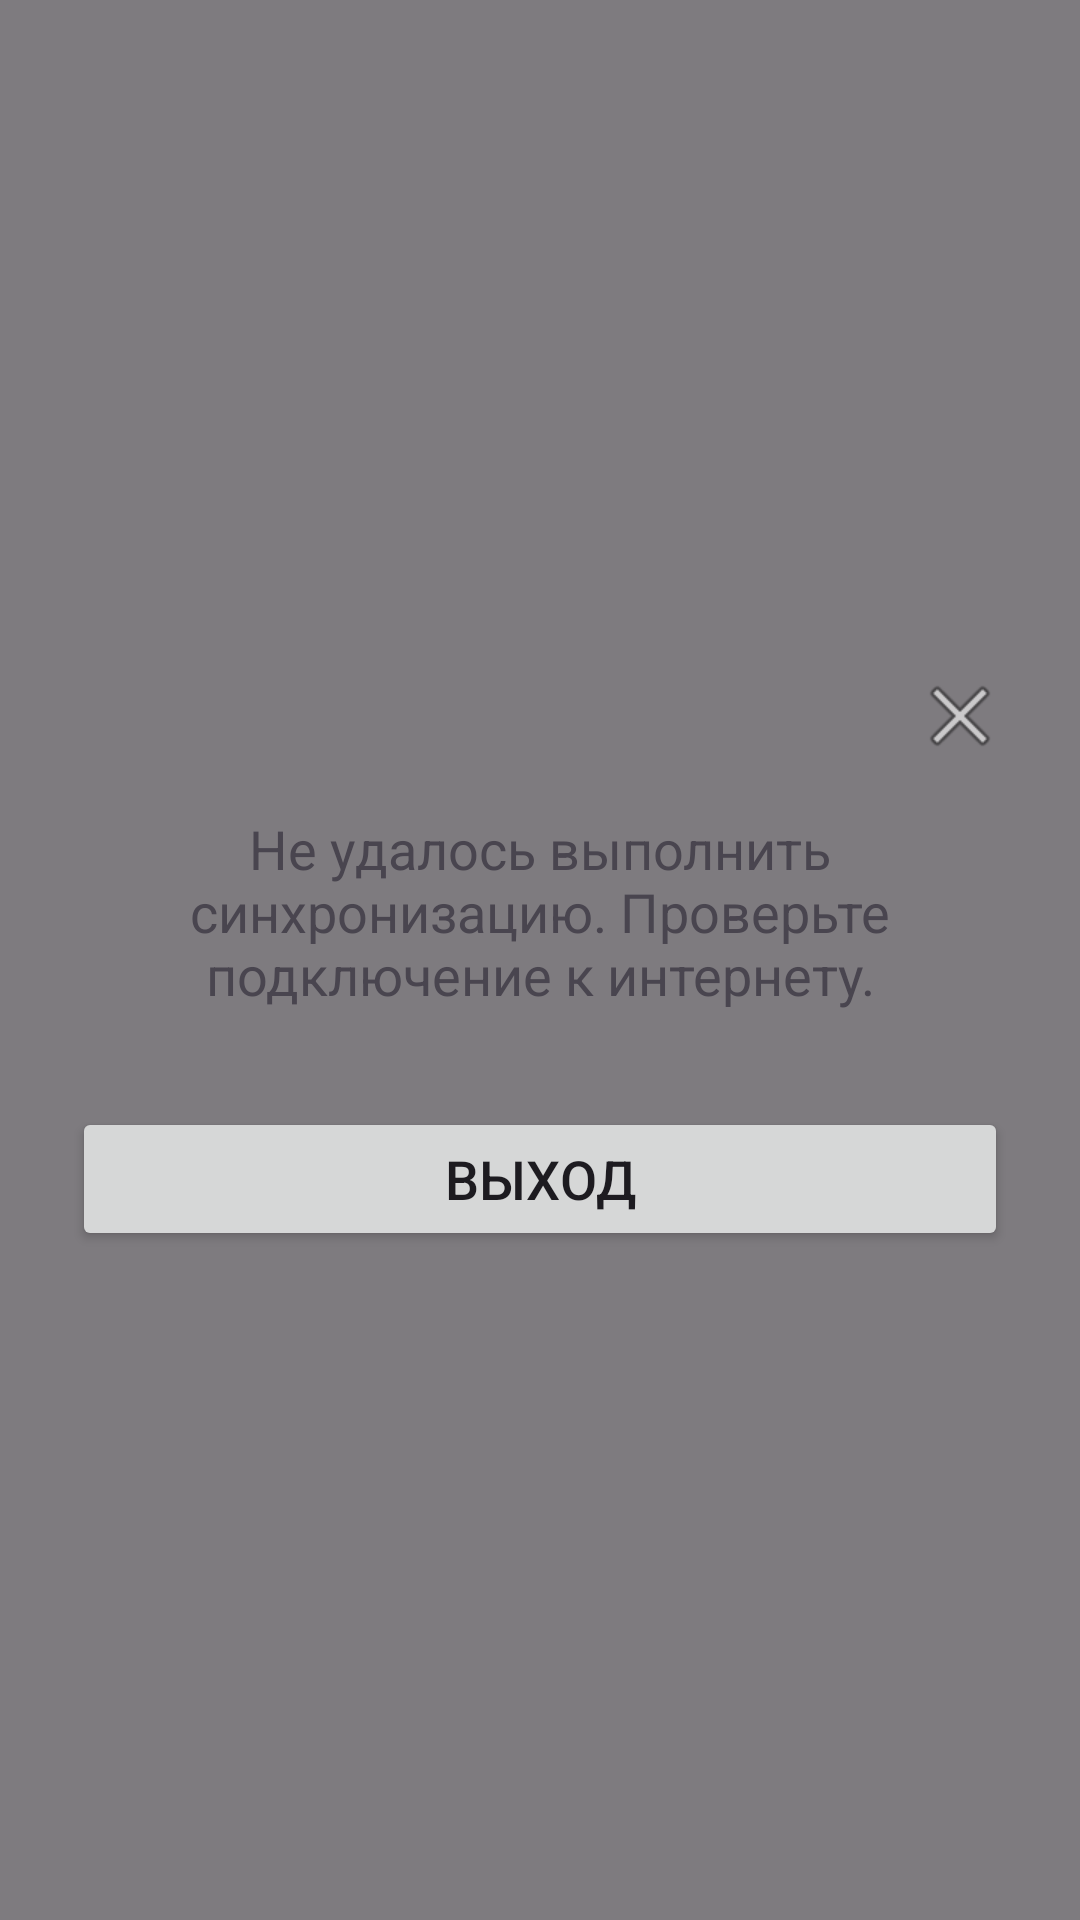

Named icons in this screenshot (1080 × 1920) and their bounding boxes, (x1, y1, x2, y2):
Закрыть: (930, 686, 990, 746)
